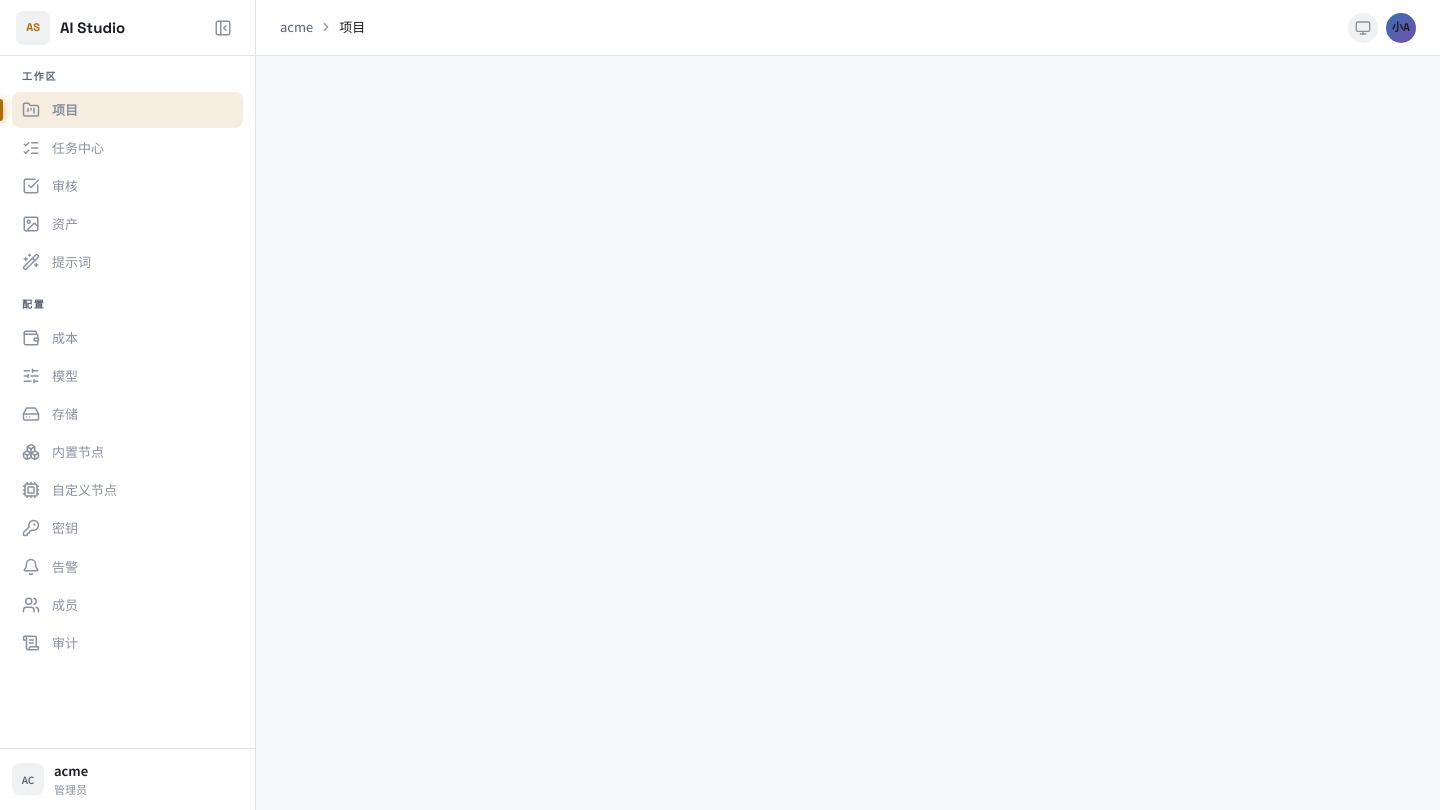
AppShell › collapse toggle hides labels + section titles but keeps the link present
Expected: the text "工作区" is shown, x1=22 y1=68 x2=57 y2=83
Expected: the text "项目" below "工作区" is shown, x1=52 y1=100 x2=78 y2=118
// 收起 → 标题与侧栏文案消失，但链接仍在（折叠态用 title 标识）。面包屑「项目」始终在顶栏。
Click the button named "收起导航".
click(223, 28)  # box x1=207 y1=12 x2=239 y2=44
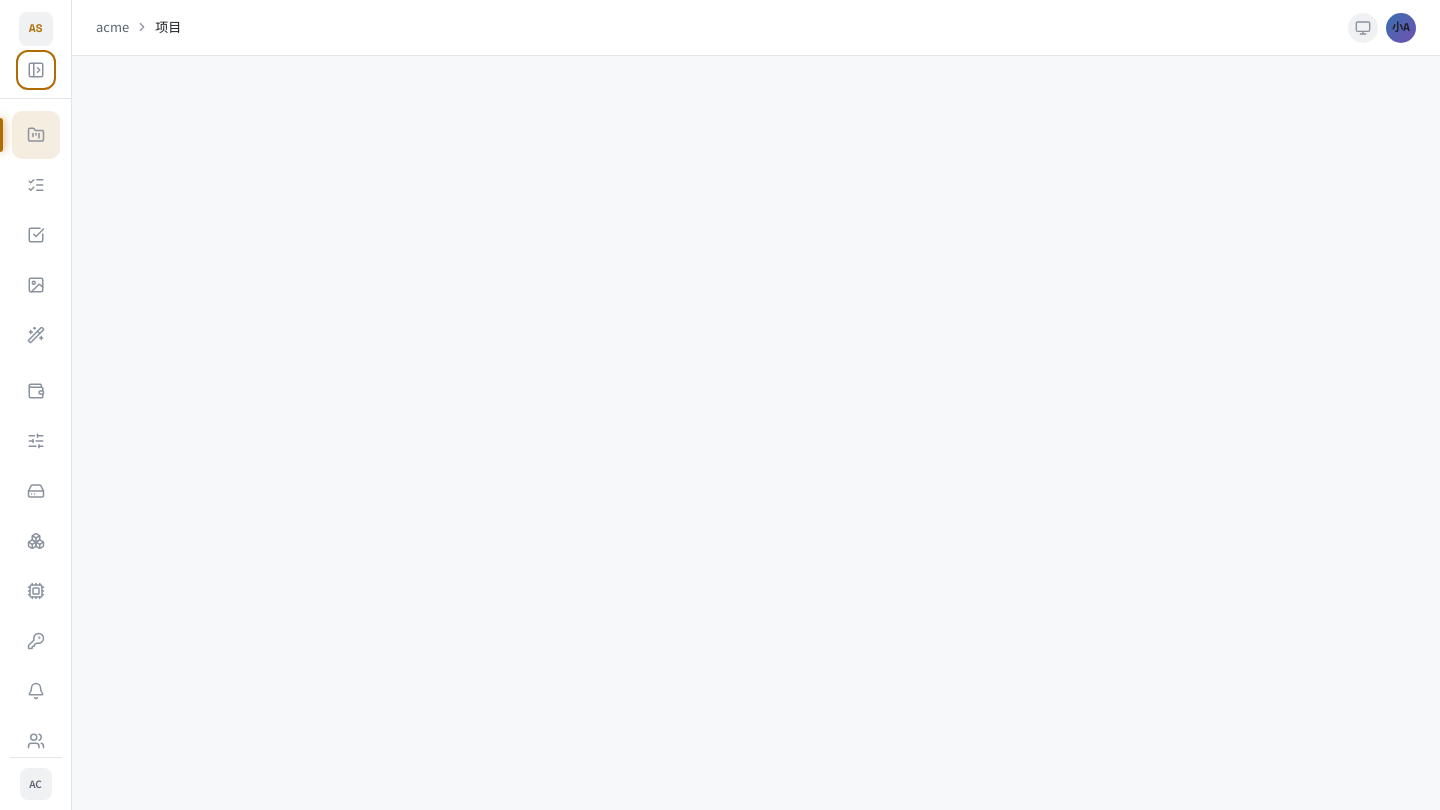
Expected: the link titled "项目" is shown, x1=12 y1=111 x2=60 y2=159
Result: the text "工作区" is gone
// 展开 → 恢复。
Click the button named "展开导航".
click(36, 70)  # box x1=20 y1=54 x2=52 y2=86
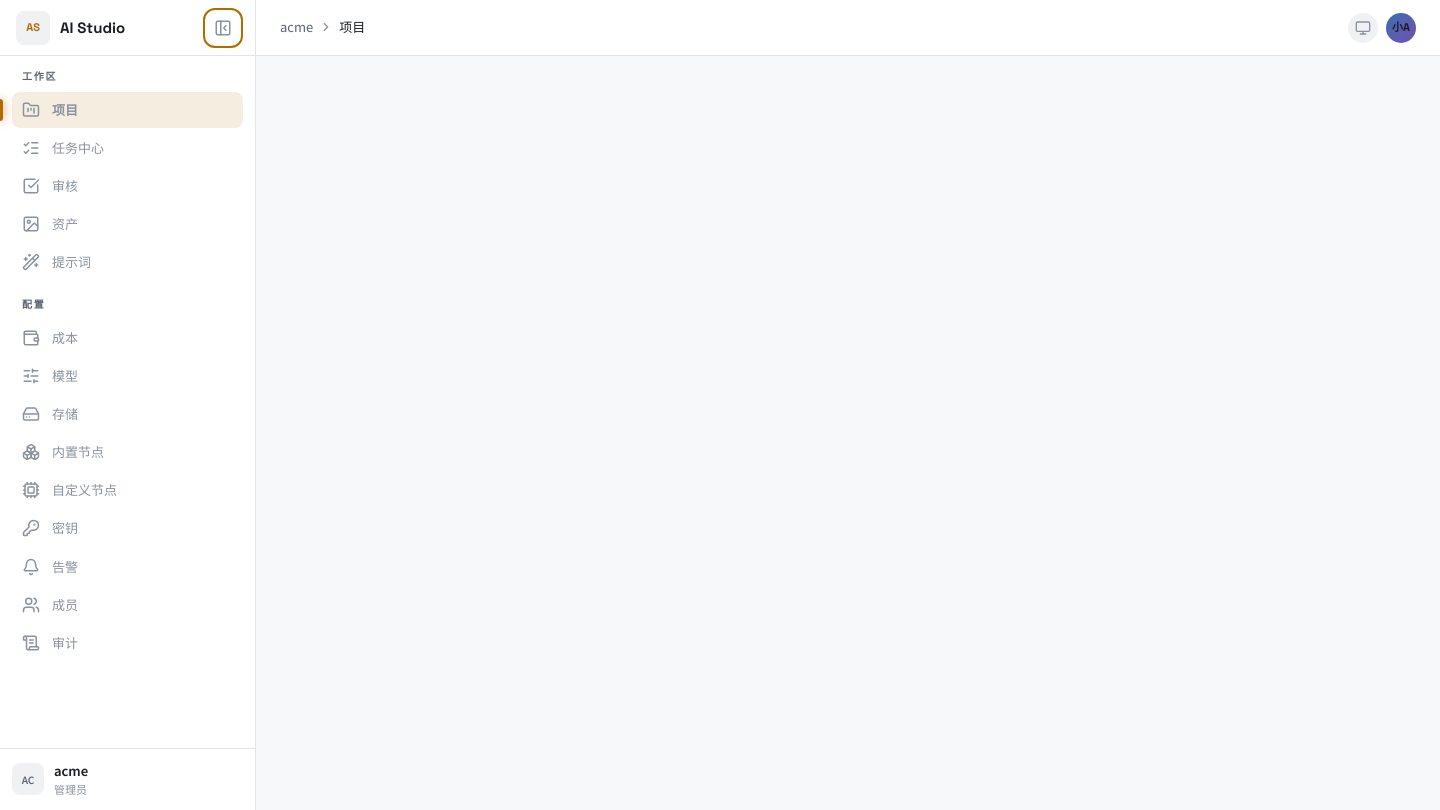
Result: the text "工作区" is shown at x1=22 y1=68 x2=57 y2=83
Result: the text "项目" below "工作区" is shown at x1=52 y1=100 x2=78 y2=118
